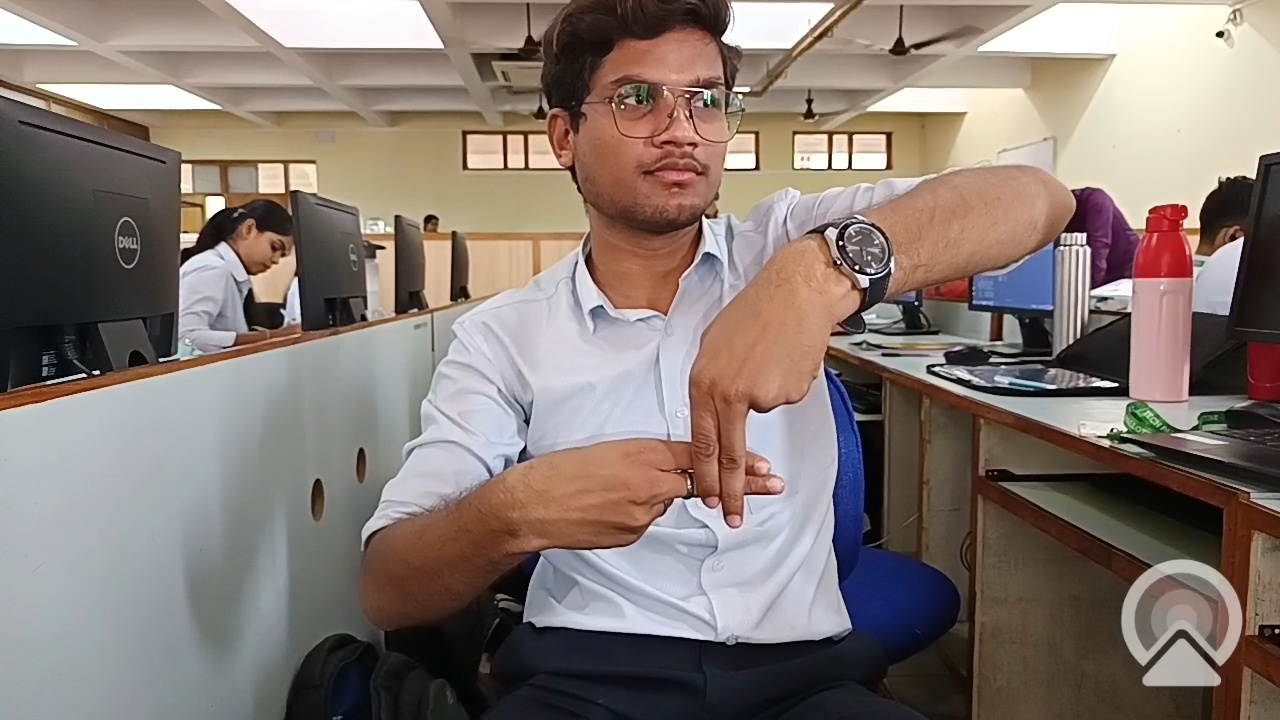F: (545, 335, 862, 567)
